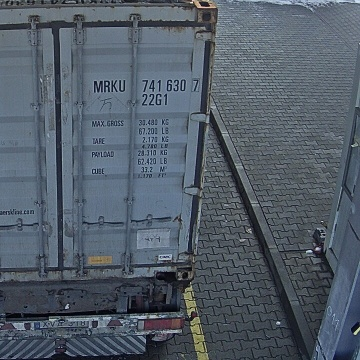serial_id: (94, 79, 198, 92)
